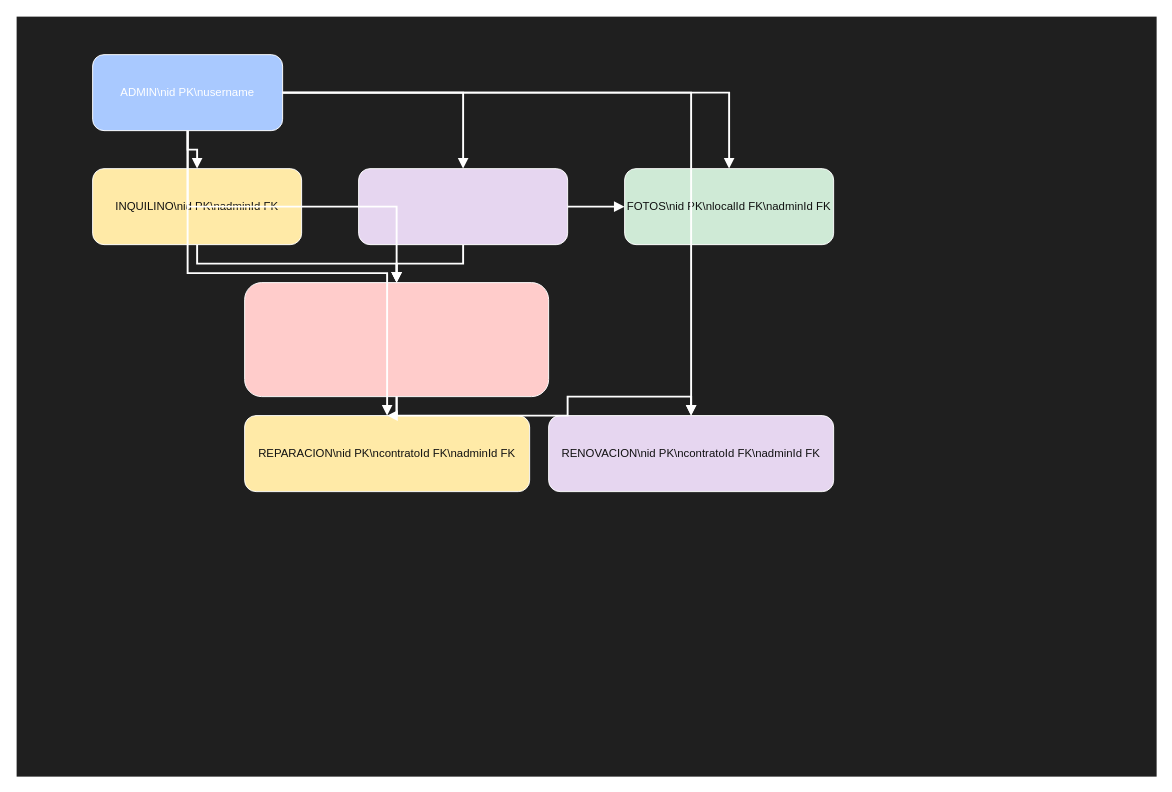
Image size: 1172x792. Some labels were removed from this diagram. The centre of each missing label's shape, as x and y in pixels:
"CONTRATO\nid PK\ninquilinoId FK\nlocalId FK\nadminId FK" goes at [396,339].
"LOCAL\nid PK\nadminId FK" goes at [463,206].
